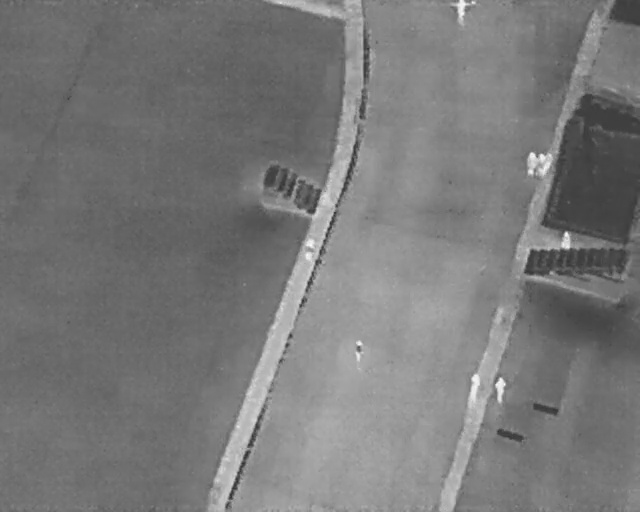Person: (467, 370, 483, 405), (451, 0, 470, 23), (494, 375, 507, 405), (352, 338, 365, 363), (535, 153, 548, 177), (526, 151, 538, 176), (304, 240, 315, 261), (544, 153, 554, 176), (561, 231, 573, 249)
